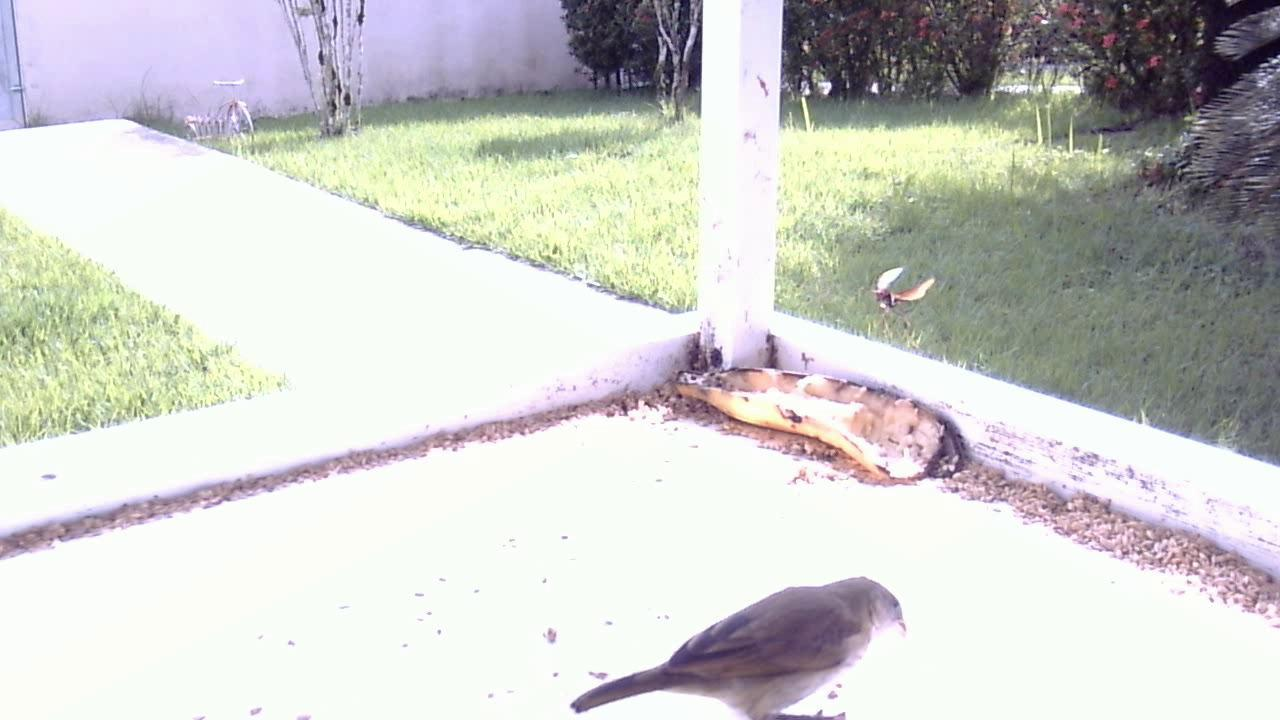canario_do_amazonas: (559, 559, 909, 720)
